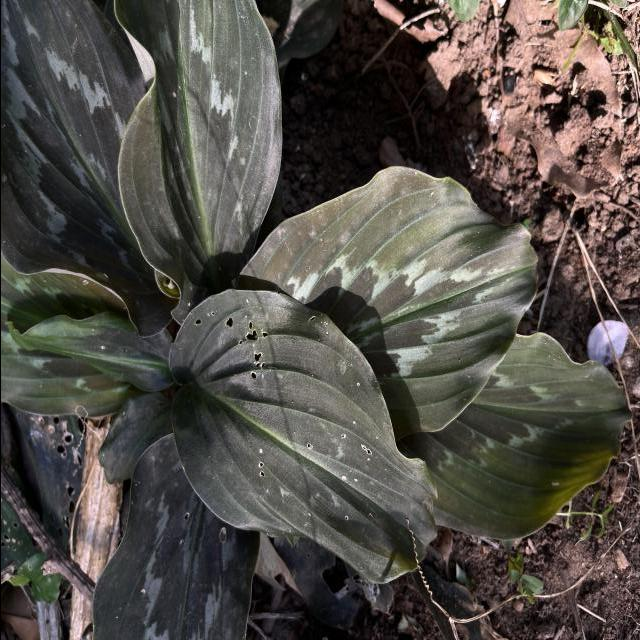Kaempferia galanga linn: (231, 163, 541, 444), (166, 287, 440, 586), (0, 0, 174, 340), (110, 0, 283, 329), (408, 329, 636, 542), (87, 432, 256, 640), (0, 308, 172, 395)
